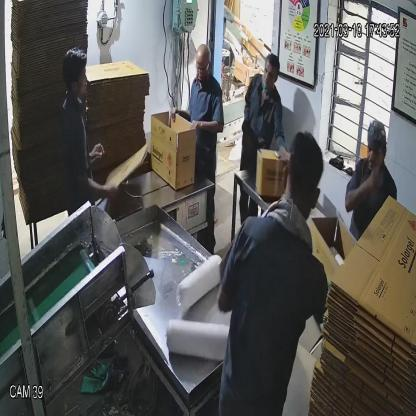no_glove: (338, 167, 382, 221), (77, 165, 120, 208), (189, 113, 226, 139)
